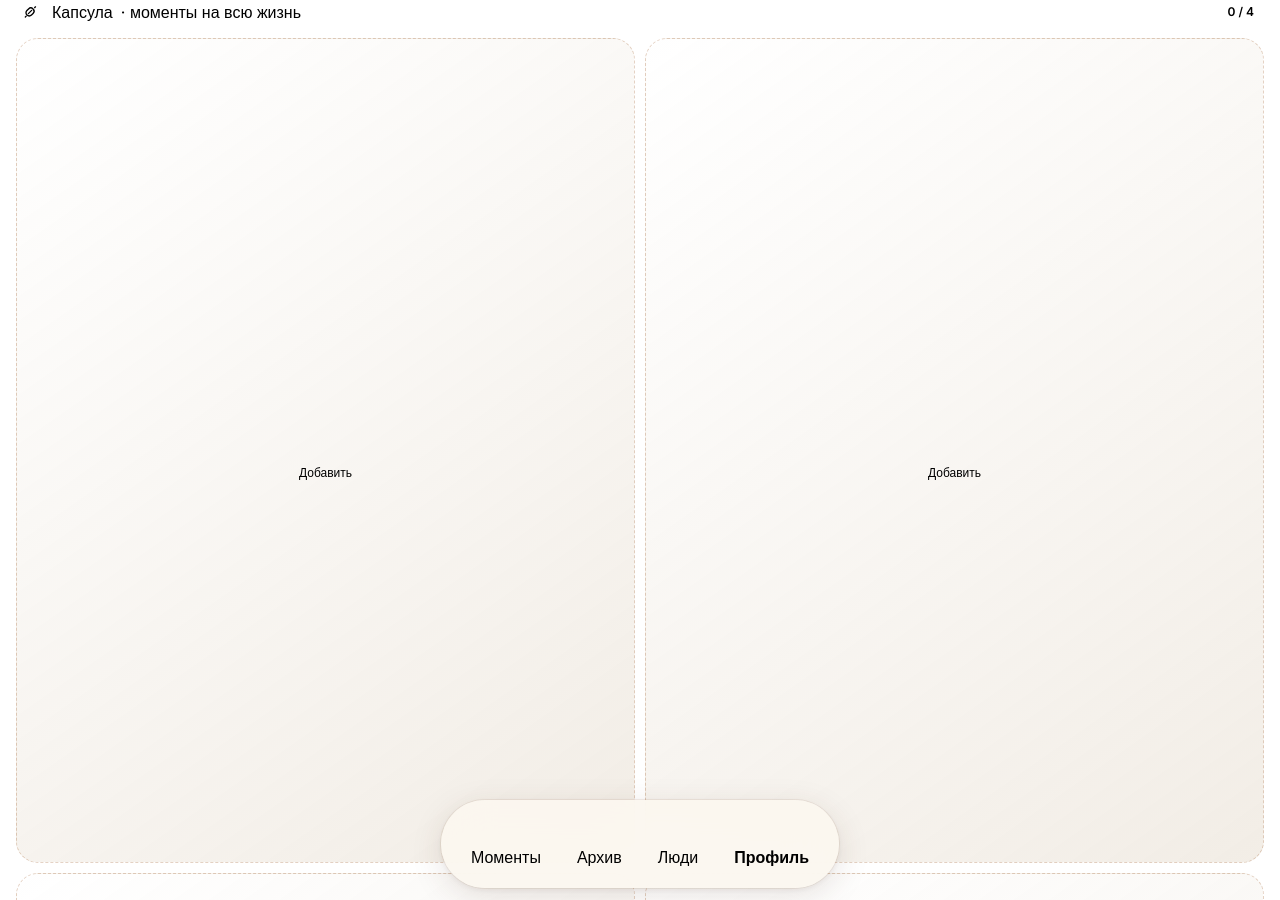
Test: Profile › opens PickMomentSheet on empty slot click
The width and height of the screenshot is (1280, 900).
(page scrolled)
Click the 1st button "Добавить" at (53, 451), box 16,38 -> 635,863
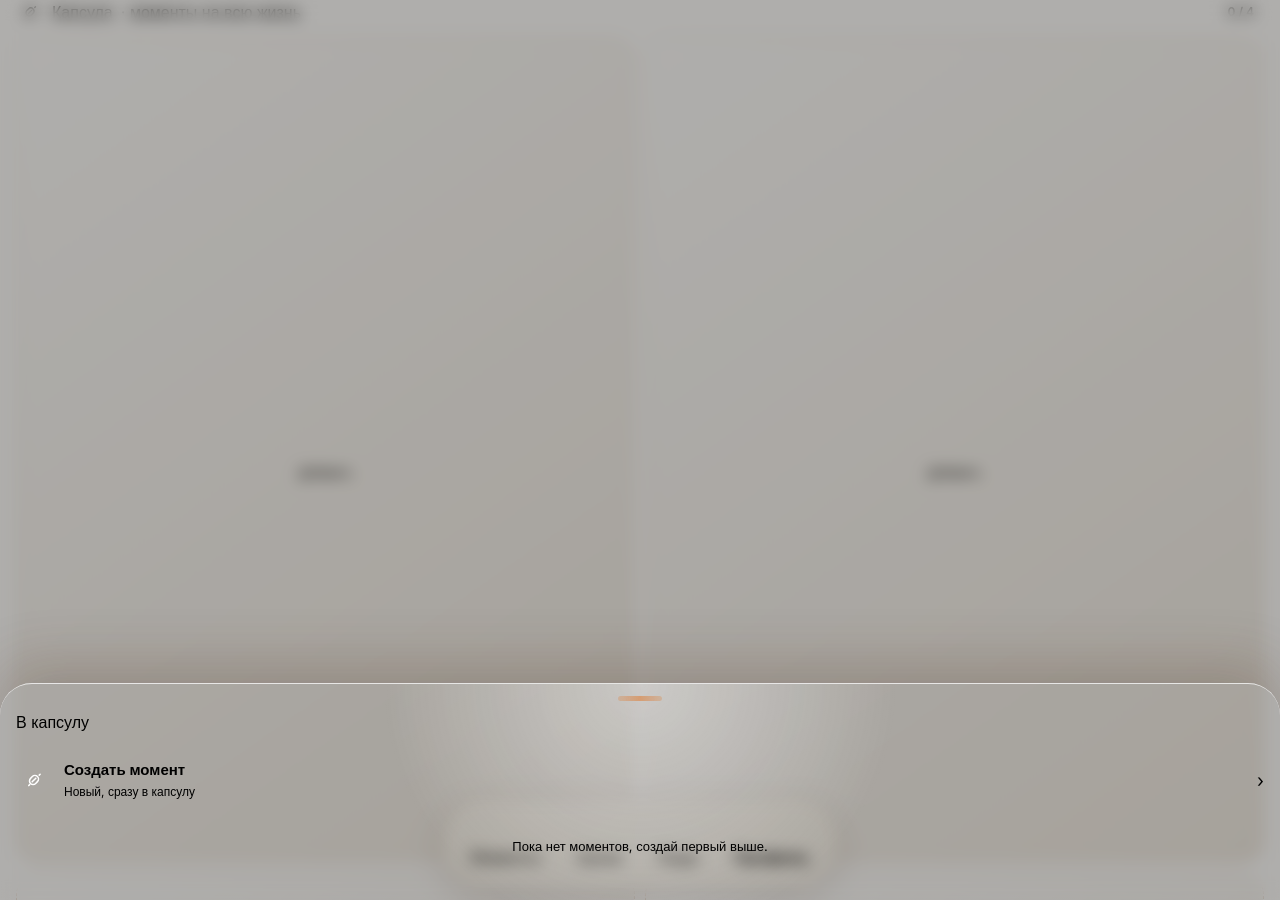
Expected: the heading "В капсулу" is shown, 16,712 -> 89,732
